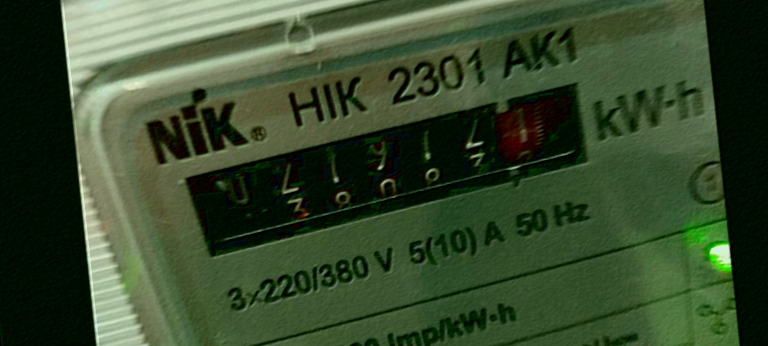0: (223, 170, 255, 209)
1: (511, 104, 537, 149)
2: (271, 156, 304, 198), (458, 113, 489, 153)
7: (412, 123, 442, 166), (321, 149, 347, 188)
9: (367, 137, 396, 174)
screen: (163, 71, 629, 271)
